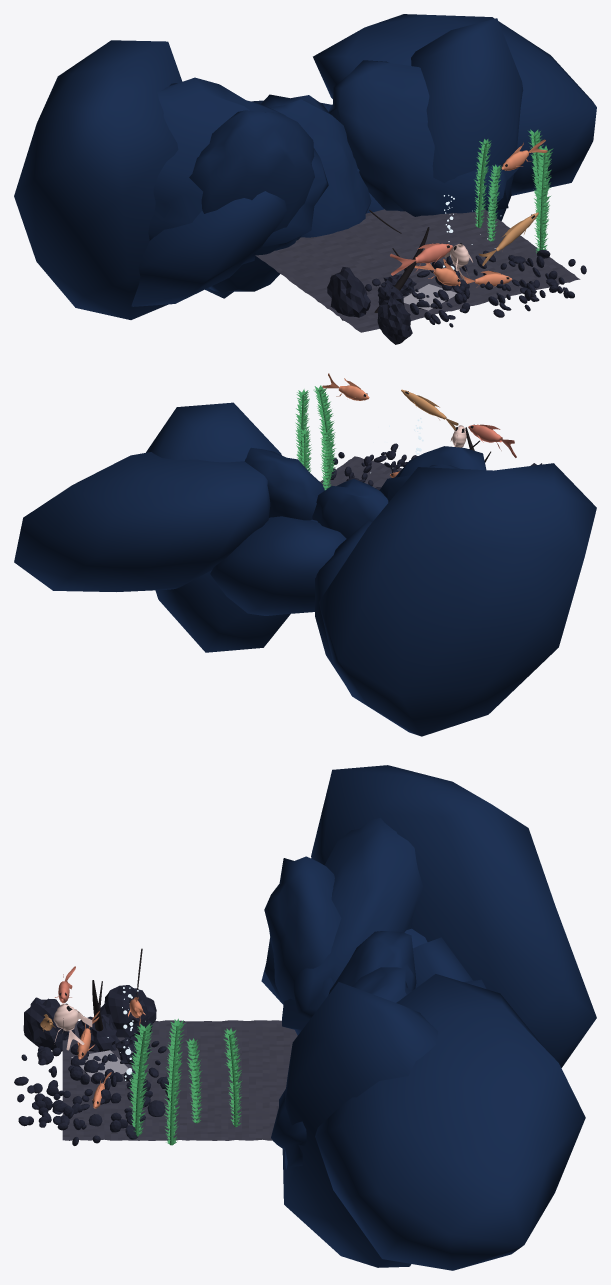
3 renders of one model, top to bottom at view 1: azimuth 30°, elevation 25°; view 2: azimuth 150°, elevation 25°; view 3: azimuth 270°, elevation 25°, orthographic. The views are drawn at different scales.
Visible parts, largest first — view 1: BgRock_4.001, Sand.001, BgRock2_2.001, BgRock_5.001, BgRock_3.001, BgRock2_0.001, BgRock_0.001, BgRock2_3.001, BgRock2_1.001, FgRock_2.001, FgRock_0.001, Plant_R1.001 (+8 smaller); view 2: BgRock_4.001, BgRock_5.001, BgRock_3.001, BgRock_2.001, BgRock2_2.001, BgRock2_1.001, BgRock_1.001, BgRock2_0.001, Sand.001, Plant_R1.001, Fish_Left.001, Plant_R2.001 (+4 smaller); view 3: BgRock_5.001, BgRock_4.001, BgRock_3.001, Sand.001, BgRock2_3.001, BgRock2_0.001, BgRock2_2.001, BgRock2_1.001, FgRock_2.001, BgRock_1.001, FgRock_0.001, Plant_R1.001 (+6 smaller).
Boxes of the visible parts, bbox=[...] form: BgRock_4.001: bbox=[14, 40, 182, 319]; Sand.001: bbox=[255, 209, 580, 332]; BgRock2_2.001: bbox=[328, 60, 518, 216]; BgRock_5.001: bbox=[313, 14, 596, 195]; BgRock_3.001: bbox=[403, 18, 523, 220]; BgRock2_0.001: bbox=[189, 110, 314, 292]; BgRock_0.001: bbox=[131, 191, 286, 306]; BgRock2_3.001: bbox=[148, 77, 328, 264]; BgRock2_1.001: bbox=[261, 94, 371, 237]; FgRock_2.001: bbox=[327, 267, 370, 320]; FgRock_0.001: bbox=[377, 296, 412, 344]; Plant_R1.001: bbox=[534, 145, 553, 253]; BgRock_4.001: bbox=[319, 463, 596, 736]; BgRock_5.001: bbox=[14, 452, 270, 591]; BgRock_3.001: bbox=[146, 402, 290, 652]; BgRock_2.001: bbox=[210, 516, 346, 615]; BgRock2_2.001: bbox=[244, 447, 324, 520]; BgRock2_1.001: bbox=[312, 479, 388, 538]; BgRock_1.001: bbox=[315, 520, 372, 680]; BgRock2_0.001: bbox=[395, 446, 486, 477]; Sand.001: bbox=[320, 456, 401, 488]; Plant_R1.001: bbox=[313, 385, 336, 478]; Fish_Left.001: bbox=[468, 424, 516, 457]; Plant_R2.001: bbox=[295, 389, 309, 462]; BgRock_5.001: bbox=[315, 974, 585, 1270]; BgRock_4.001: bbox=[311, 765, 596, 1067]; BgRock_3.001: bbox=[282, 982, 437, 1267]; Sand.001: bbox=[62, 1020, 297, 1140]; BgRock2_3.001: bbox=[282, 818, 422, 1035]; BgRock2_0.001: bbox=[264, 856, 341, 1027]; BgRock2_2.001: bbox=[271, 967, 411, 1169]; BgRock2_1.001: bbox=[328, 931, 416, 994]; FgRock_2.001: bbox=[100, 985, 156, 1037]; BgRock_1.001: bbox=[413, 937, 472, 988]; FgRock_0.001: bbox=[23, 997, 74, 1051]; Plant_R1.001: bbox=[129, 1023, 152, 1135].
Size of the model in its own units: 10.71 by 4.92 by 8.25.
